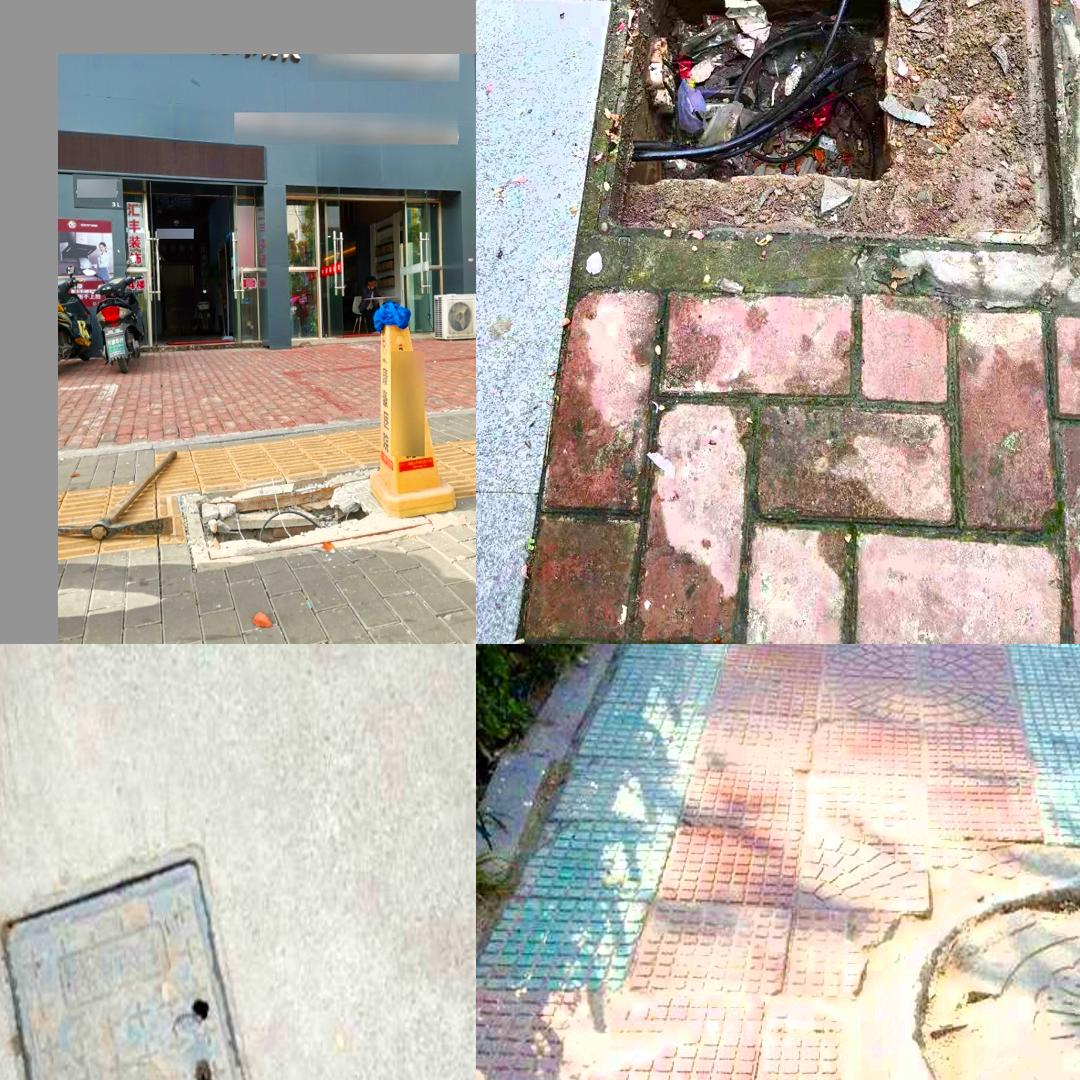broke: (588, 0, 1078, 250), (0, 843, 299, 1080), (882, 877, 1080, 1080), (177, 468, 442, 566)
